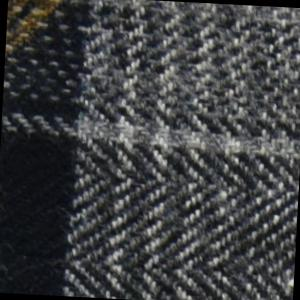Oil Stain: (6, 1, 67, 64)
